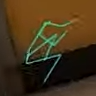hacks_2: (25, 20, 72, 82)
